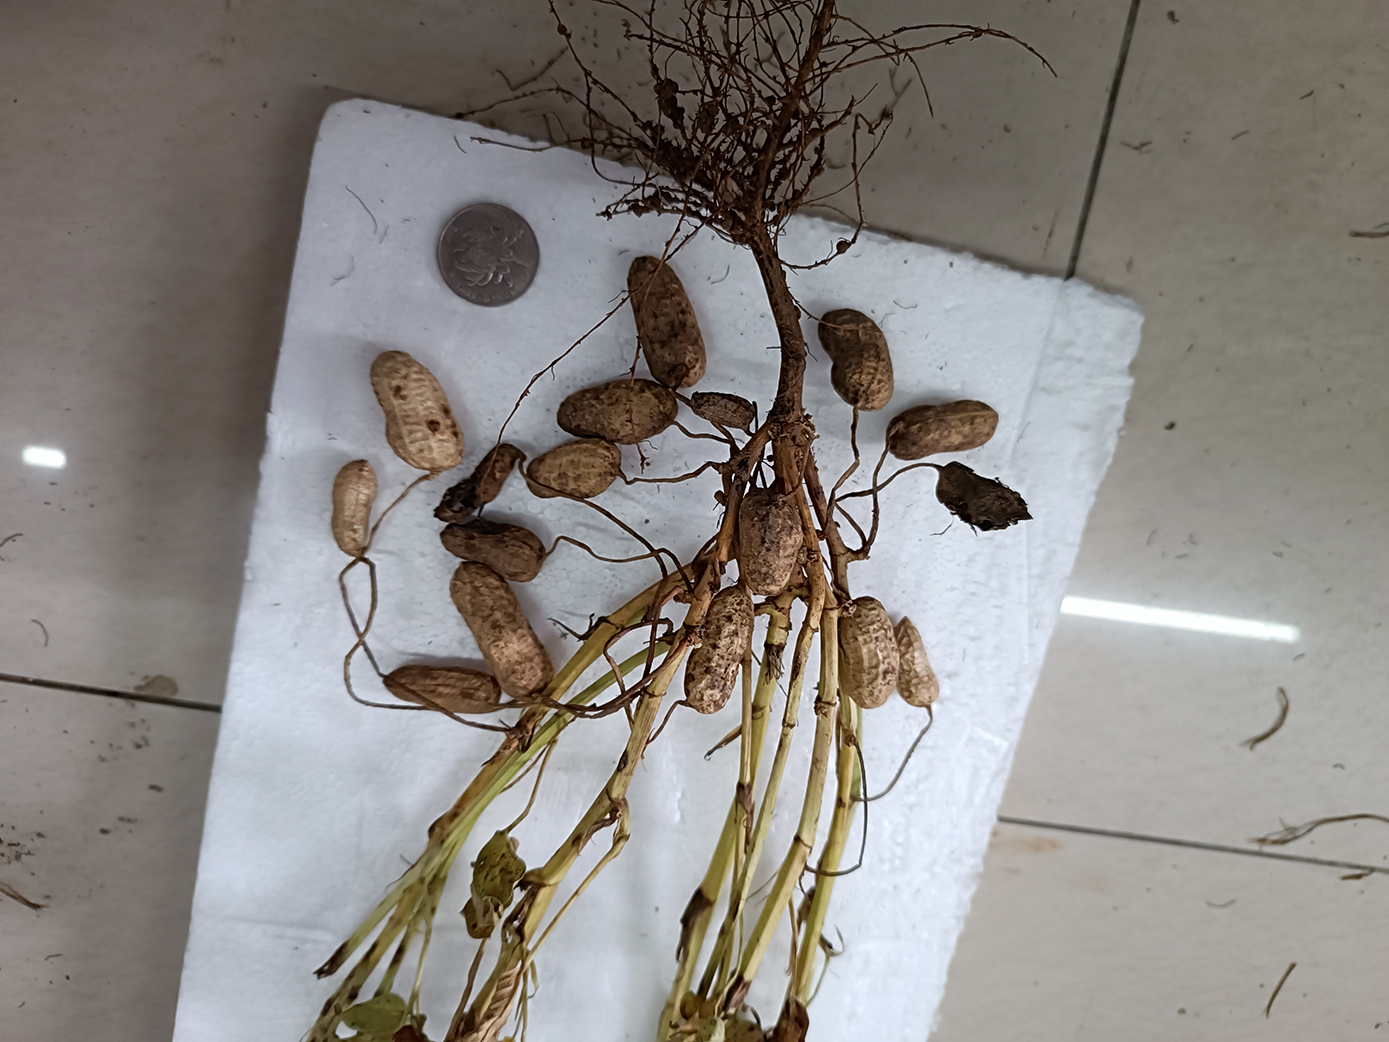h: (448, 560, 554, 701), (369, 349, 465, 472), (818, 309, 894, 412), (837, 597, 900, 709), (738, 489, 802, 597), (526, 437, 622, 501), (331, 459, 378, 557), (894, 615, 940, 707)
l: (626, 255, 707, 387), (683, 584, 755, 716), (556, 379, 678, 445), (935, 460, 1034, 532), (886, 400, 999, 461), (435, 443, 519, 522), (440, 521, 545, 582), (383, 665, 503, 714), (690, 390, 755, 429)
